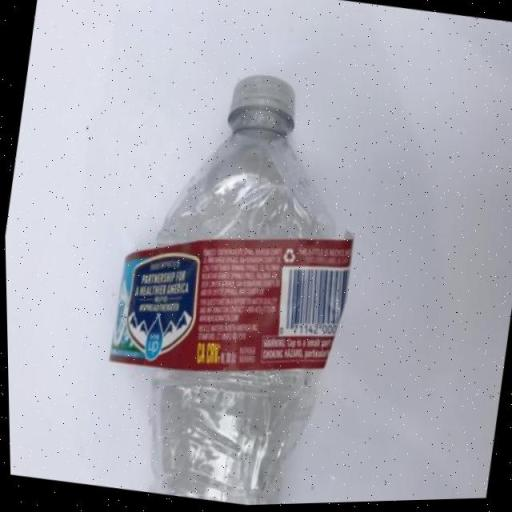plastic: (80, 57, 384, 510)
